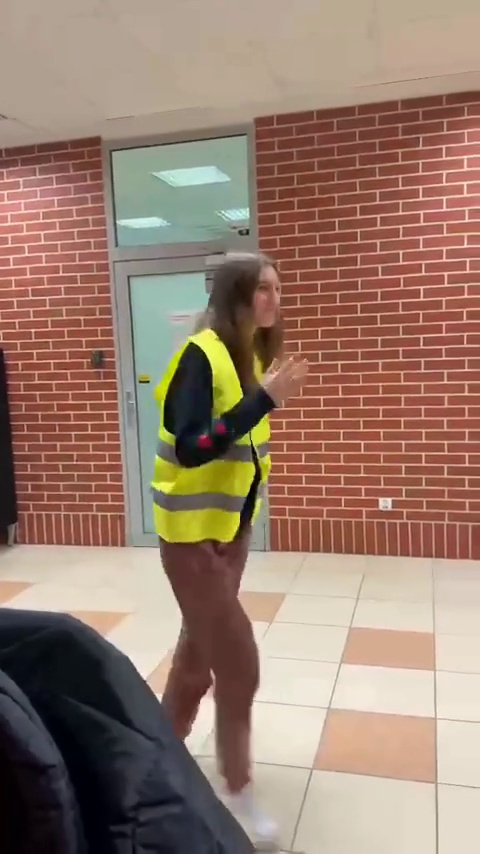vest: (150, 250, 295, 849)
